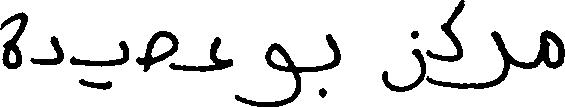X: (236, 38, 299, 106), (382, 26, 425, 96), (465, 26, 509, 93), (442, 0, 463, 93), (0, 7, 26, 73), (146, 26, 177, 76), (32, 31, 63, 69), (542, 25, 564, 73), (211, 32, 231, 75), (327, 29, 339, 74), (120, 36, 128, 69)
